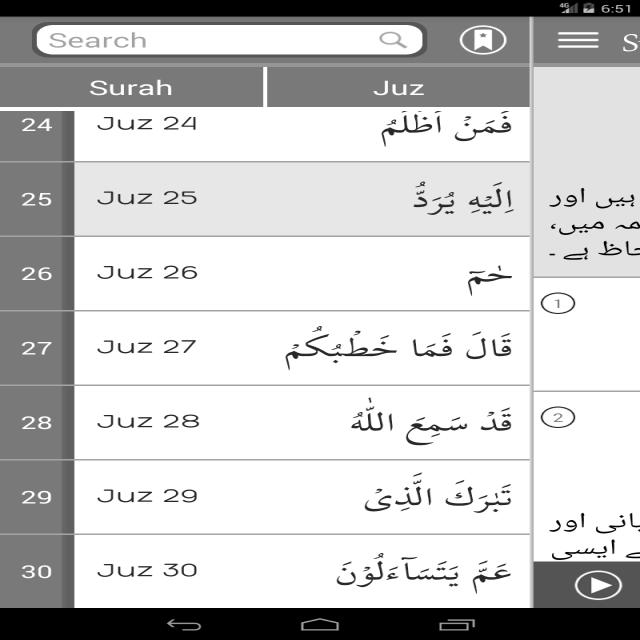EditText: (28, 28, 424, 56)
ImageButton: (560, 567, 625, 604), (452, 21, 508, 63), (555, 18, 602, 56)
TextView: (294, 324, 526, 376), (328, 392, 525, 450), (327, 544, 506, 592), (367, 475, 515, 525), (546, 194, 632, 276), (365, 106, 531, 148), (395, 178, 522, 224), (530, 510, 636, 564), (96, 406, 246, 442), (84, 256, 206, 298), (102, 335, 229, 375), (361, 67, 476, 107), (70, 74, 218, 105), (96, 479, 211, 512), (80, 187, 204, 213), (94, 113, 226, 135), (101, 559, 208, 584), (19, 249, 70, 290), (458, 269, 512, 301), (5, 116, 59, 142), (14, 567, 68, 589), (20, 188, 58, 218), (14, 339, 58, 358), (24, 410, 50, 442), (21, 488, 53, 512)
